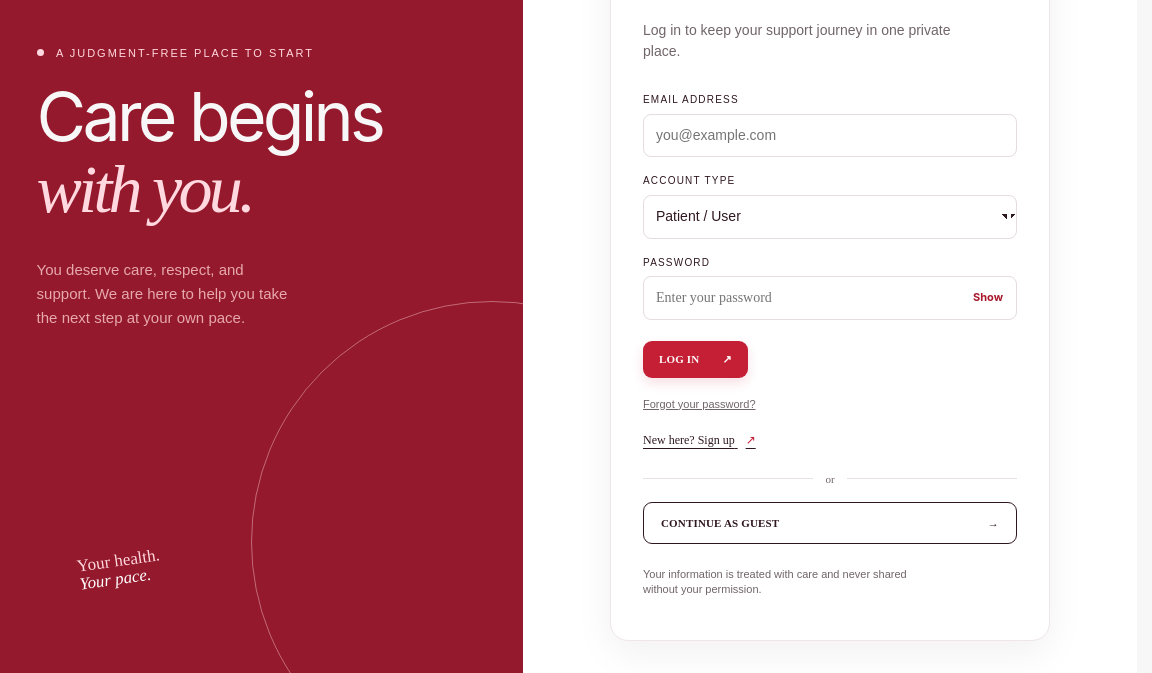
Test: shows all requested registration fields
(page scrolled)
Click the button "New here? Sign up ↗" at x=699, y=440, box x1=643 y1=433 x2=756 y2=448
(page scrolled)
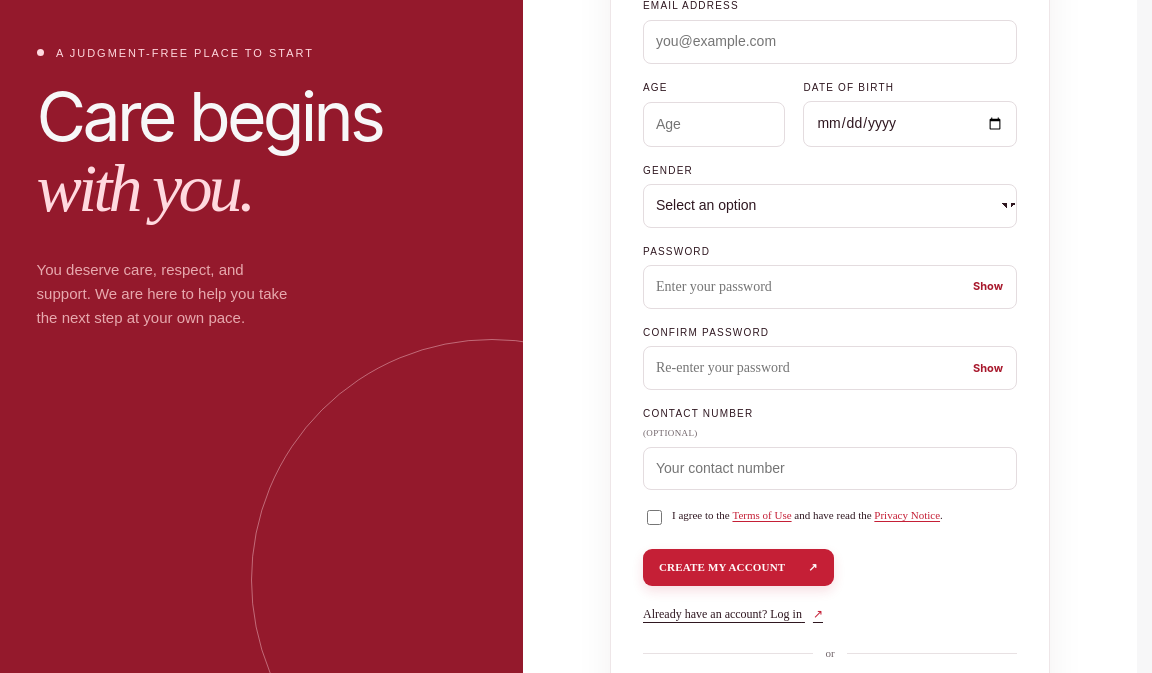
expect the number field labelled "Age" is shown: met, box x1=643 y1=102 x2=785 y2=147
expect the date field labelled "Date of Birth" is shown: met, box x1=803 y1=101 x2=1017 y2=147
expect the password field labelled "Confirm Password" is shown: met, box x1=643 y1=346 x2=1017 y2=390
